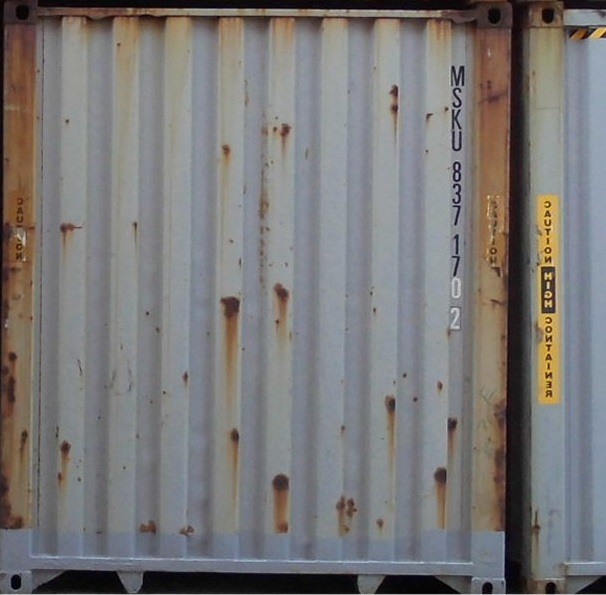container_no_door: (1, 1, 506, 592)
